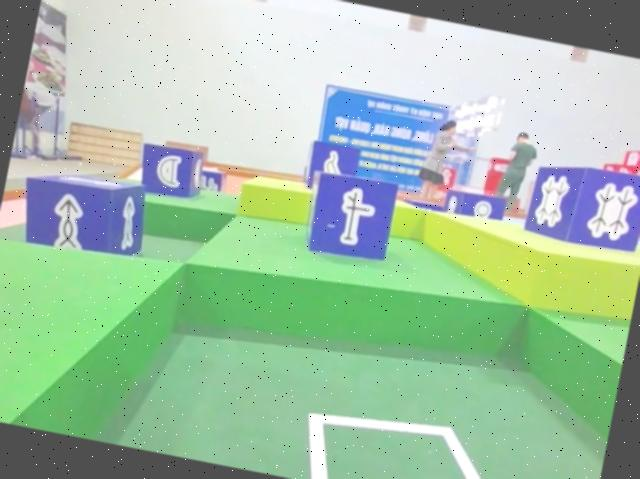R2 Real Blue: (12, 164, 153, 266), (522, 155, 640, 258), (299, 167, 400, 267), (132, 141, 205, 205), (300, 137, 359, 195), (441, 185, 505, 222)
